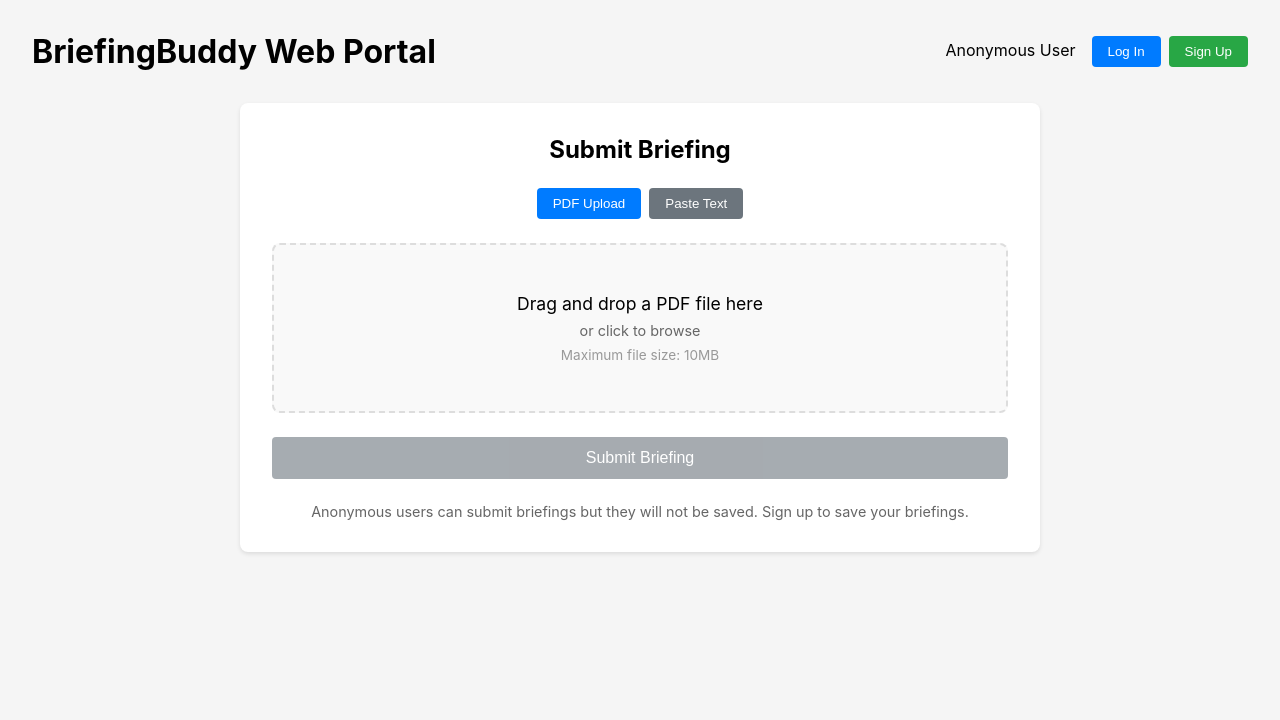
Test: HomePage - Briefing Input › Mode Toggle › should only show one input mode at a time
Expected: the text "Drag and drop a PDF file here" is shown, [517,293,763,314]
Expected: the field labelled "paste notam text" is not shown
// Switch to paste mode
Click the button "Paste Text" at (696, 204), box [649,188,743,219]
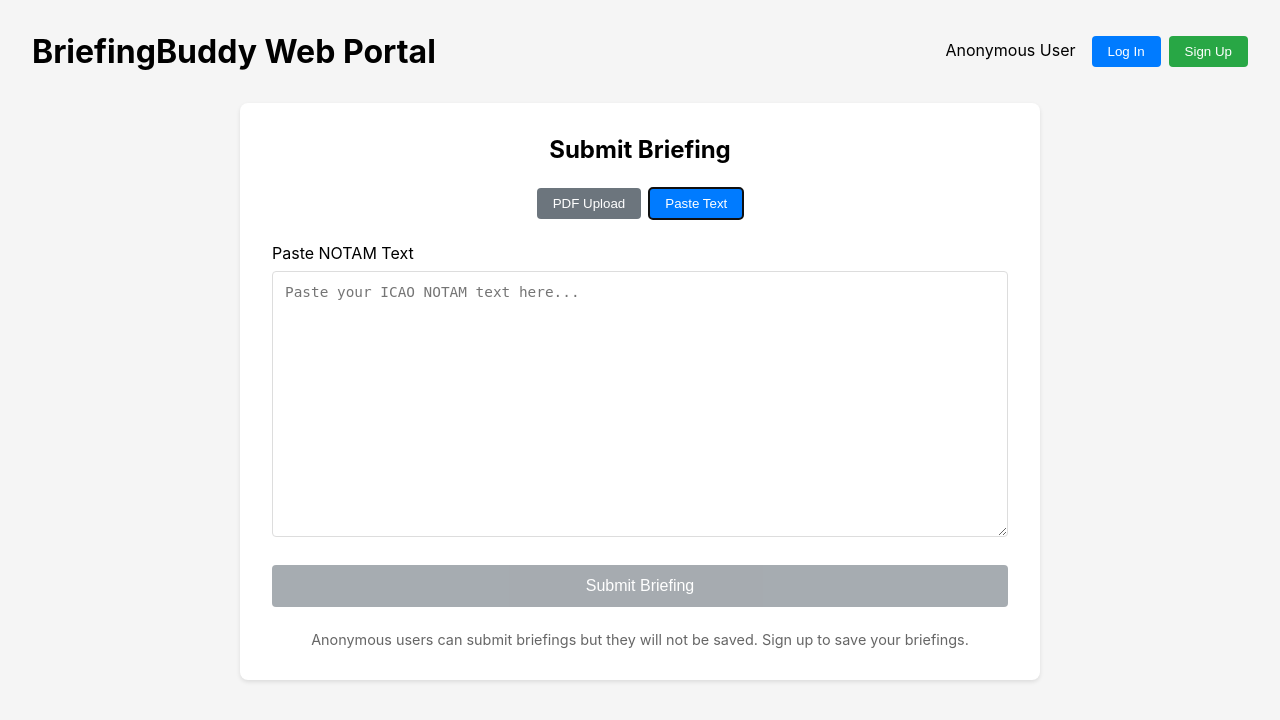
Result: the text "Drag and drop a PDF file here" is gone
Result: the text box labelled "Paste NOTAM Text" is shown at [272,271,1008,537]
// Switch back to PDF mode
Click the button "PDF Upload" at (589, 204), box [537,188,641,219]
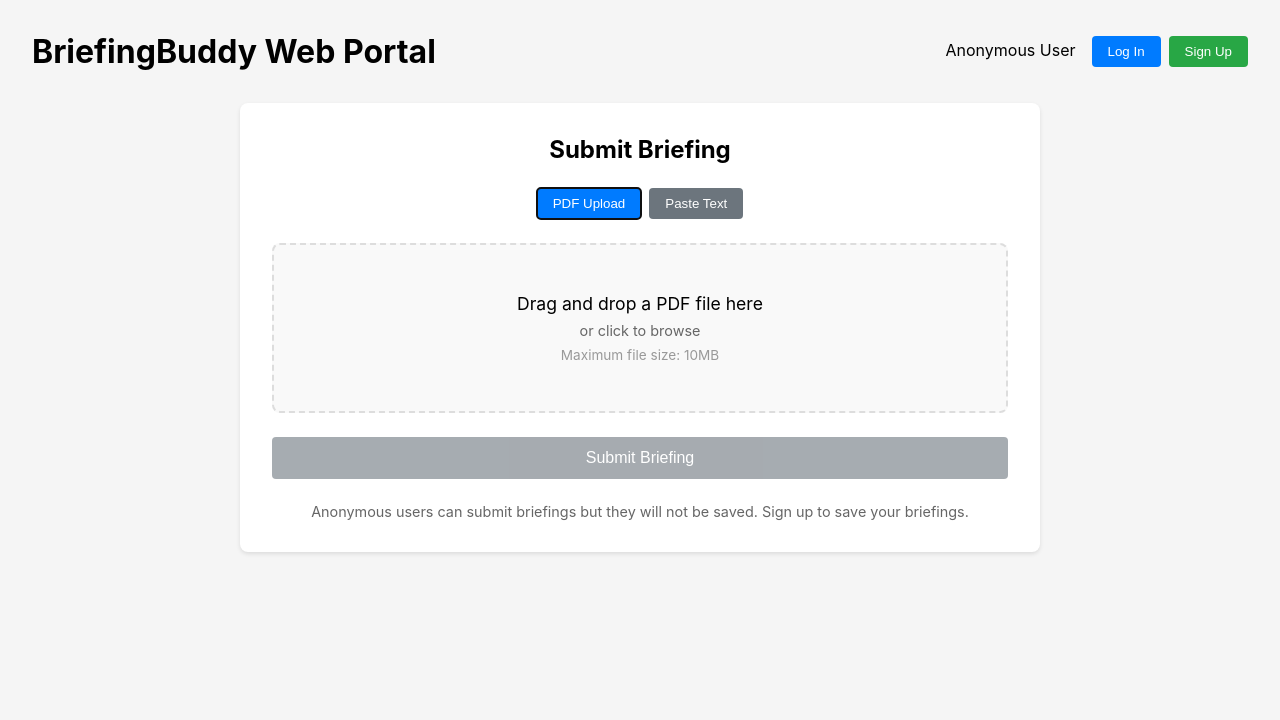
Result: the text "Drag and drop a PDF file here" is shown at [517,293,763,314]
Result: the label labelled "Paste NOTAM Text" is gone
